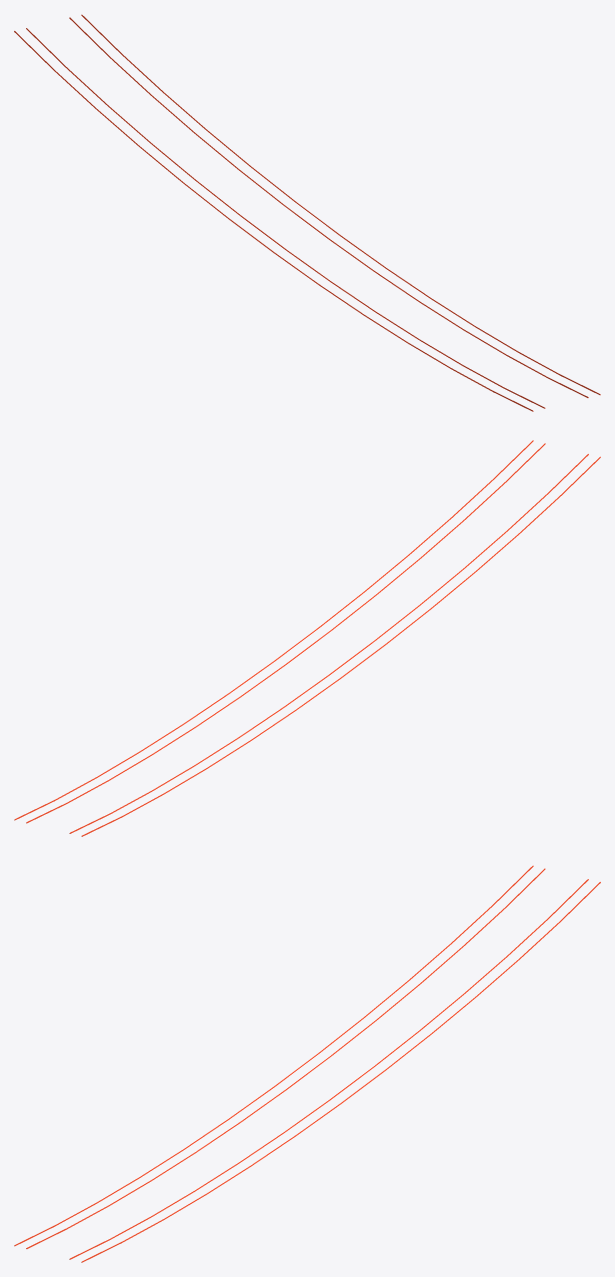
The model's file is SM_Pole_Electric_Wire_20m_A_City.fbx.
3 views of the same model, one above another, from view 1: azimuth 30°, elevation 25°; view 2: azimuth 150°, elevation 25°; view 3: azimuth 330°, elevation 25° (orthographic).
Visible parts, largest first — view 1: SM_Pole_Electric_Wire_20m_A_City; view 2: SM_Pole_Electric_Wire_20m_A_City; view 3: SM_Pole_Electric_Wire_20m_A_City.
Boxes of the visible parts, <box> form: SM_Pole_Electric_Wire_20m_A_City: <box>14,14,600,411</box>; SM_Pole_Electric_Wire_20m_A_City: <box>14,440,600,836</box>; SM_Pole_Electric_Wire_20m_A_City: <box>14,865,600,1262</box>.
Bounding box in the file's own units: 1.52 × 0.6857 × 20.
